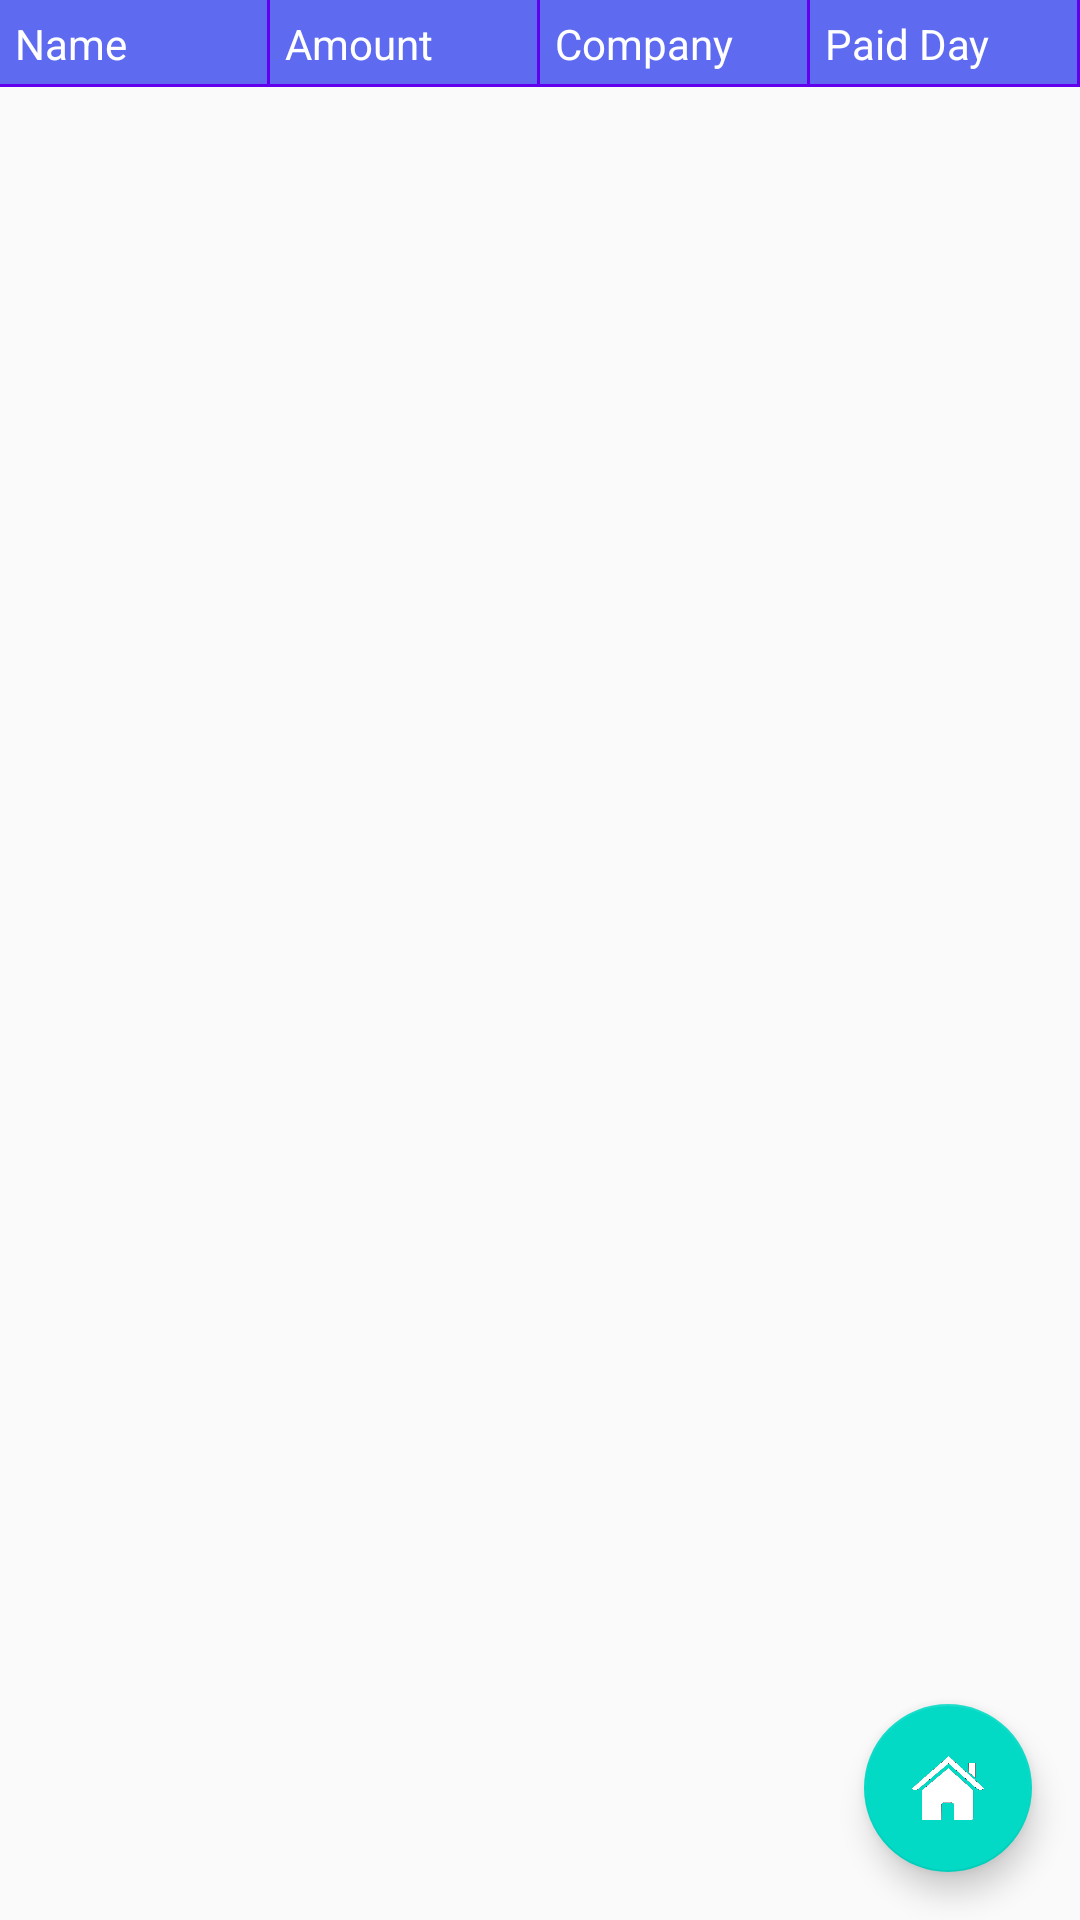

Where icons sit on this 1080px×1920px app screen, as (x1, y1, x2, y2):
home: (864, 1704, 1032, 1872)
